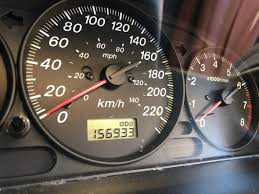Digital_Meter: (86, 117, 141, 138)
